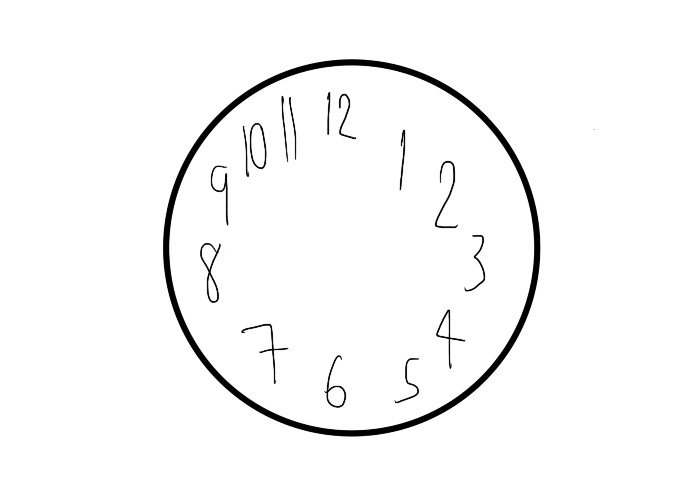eight: (198, 239, 222, 304)
eleven: (274, 92, 300, 163)
five: (393, 355, 422, 403)
four: (433, 307, 468, 371)
nine: (209, 160, 232, 226)
one: (394, 123, 410, 195)
seven: (238, 317, 289, 387)
six: (323, 350, 351, 413)
ten: (241, 121, 269, 177)
three: (464, 230, 488, 298)
twelve: (322, 88, 359, 142)
two: (430, 153, 464, 234)
